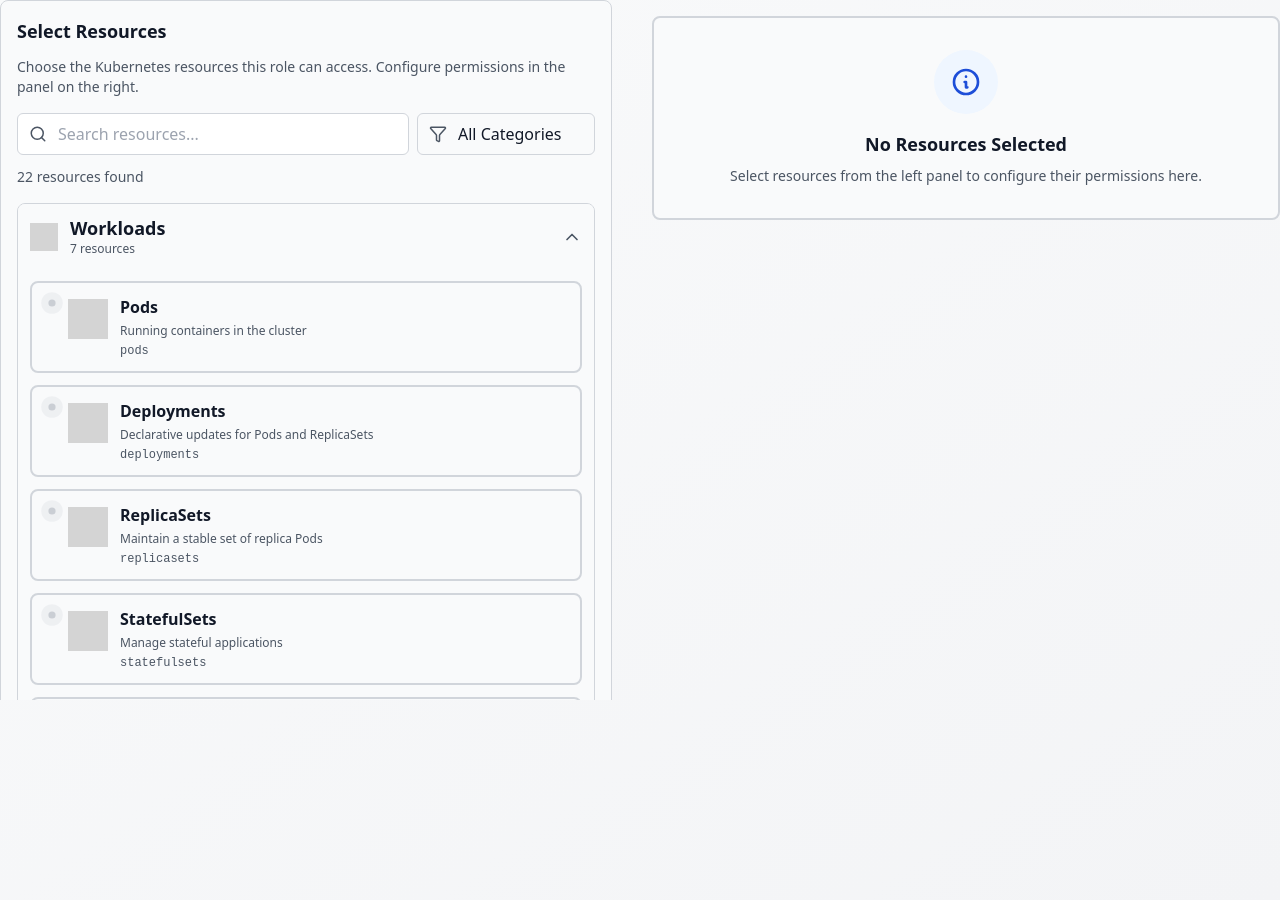
it: ResourceSelector Integration › Search and Filter › shows 'no results' message when search has no matches
In the field with placeholder "Search resources...": (213, 134) [17,113,409,155], type "nonexistentresource"
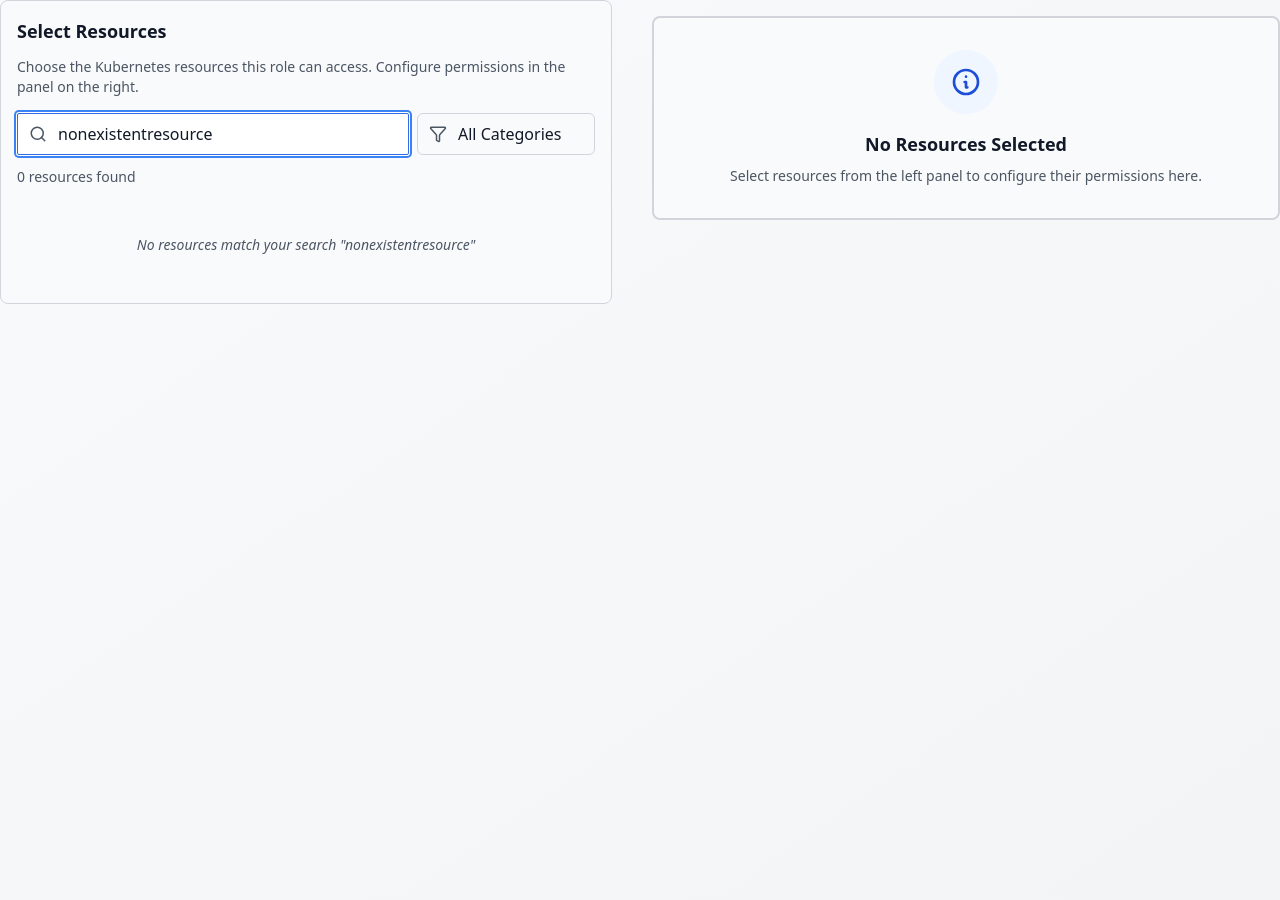
Result: the text "No resources match your search \"nonexistentresource\"" is shown at [137,235,475,254]
